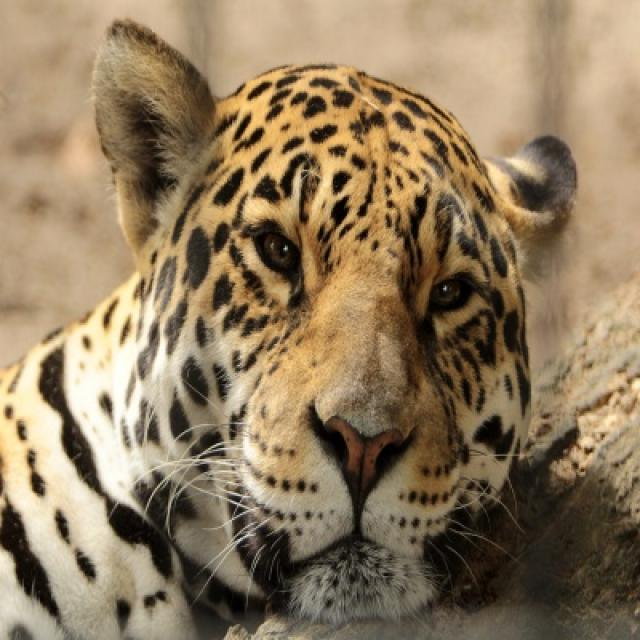Jaguar: (0, 18, 579, 638)
